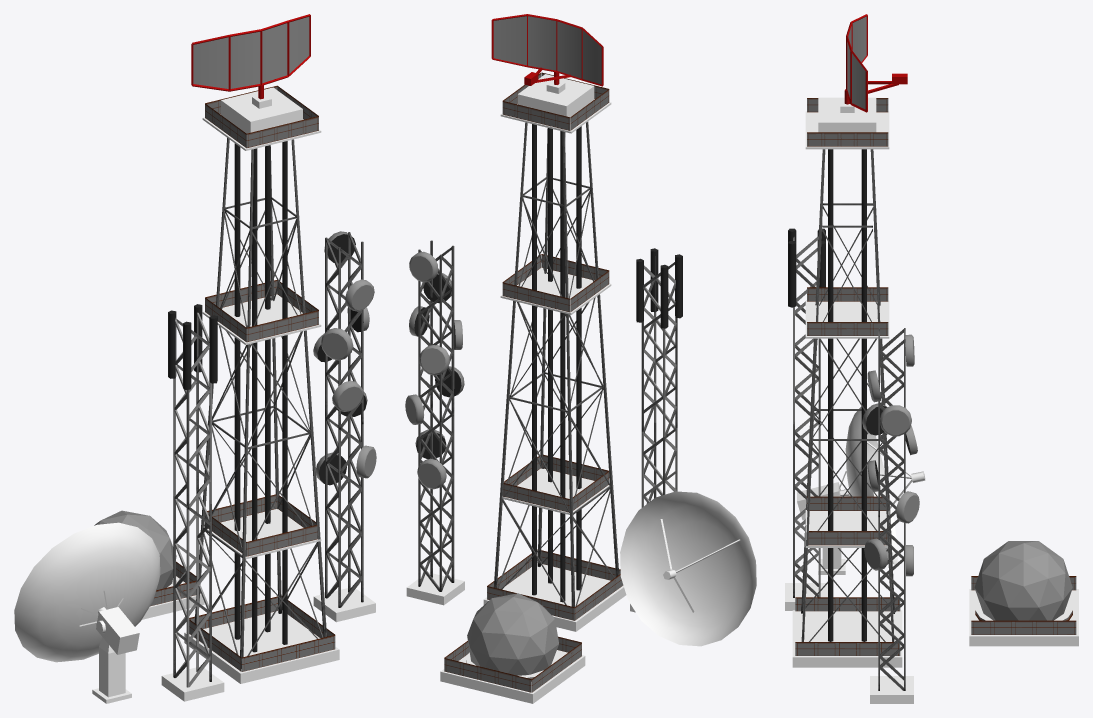
File: air_ant.FBX
3 views of the same model, side by side, from view 1: azimuth 30°, elevation 25°; view 2: azimuth 150°, elevation 25°; view 3: azimuth 270°, elevation 25° (orthographic). The views are drawn at different scales.
Parts seen in each view (by area): view 1: a3, a1, a2, a004, a3m, a5; view 2: a3, a1, a2, a5, a004, a3m; view 3: a3, a5, a2, a004, a1, a3m.
Part boxes in pixels (x1,y1,x2,y2): a3: (184,85,339,683); a1: (14,522,160,703); a2: (313,231,376,622); a004: (161,304,224,701); a3m: (191,14,310,99); a5: (94,510,204,619); a3: (483,72,626,631); a1: (620,491,756,646); a2: (405,240,464,605); a5: (440,593,585,703); a004: (630,248,682,612); a3m: (491,14,603,86); a3: (792,97,902,667); a5: (969,541,1078,646); a2: (862,328,919,703); a004: (785,228,827,610); a1: (797,406,925,574); a3m: (844,14,907,112).
Size of the model in its own units: 178 by 291 by 127.
